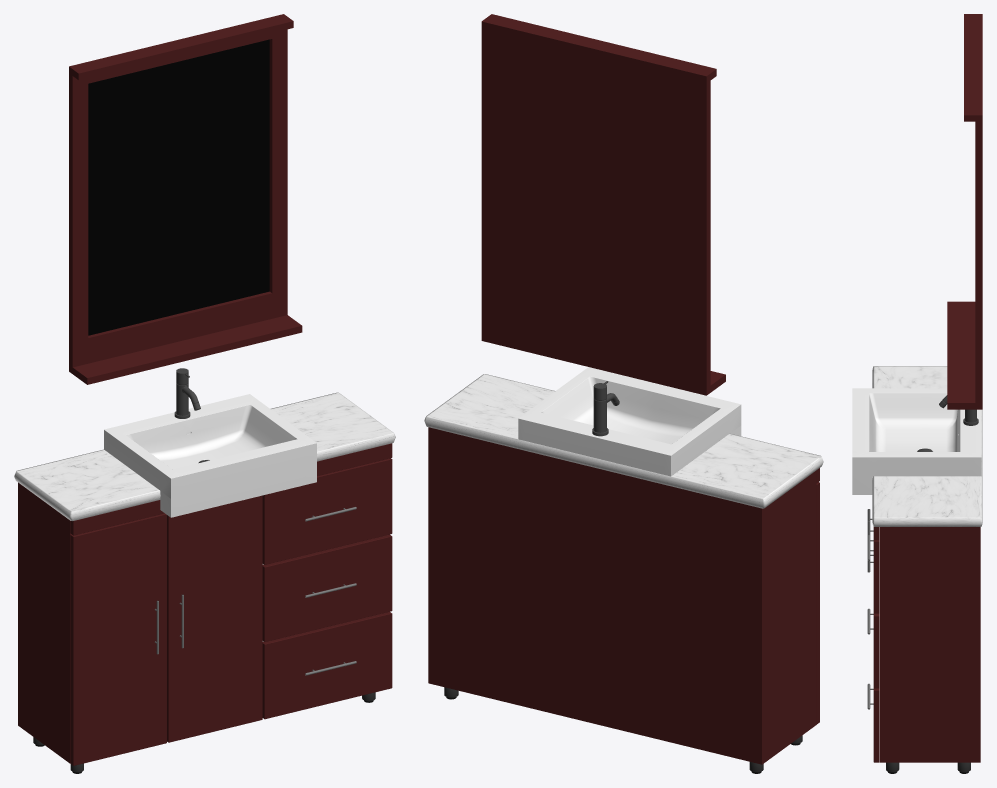
Rendered from bathroom-2.obj.
3 views of the same model, side by side, from view 1: azimuth 30°, elevation 25°; view 2: azimuth 150°, elevation 25°; view 3: azimuth 270°, elevation 25° (orthographic). The views are drawn at different scales.
Visible parts, largest first — view 1: default; view 2: default; view 3: default.
Boxes of the visible parts, left/top/right/bottom form: default: left=14, top=14, right=395, bottom=773; default: left=424, top=14, right=823, bottom=773; default: left=852, top=14, right=982, bottom=773.
Size of the model in its own units: 0.0107 by 0.0208 by 0.00385.
10 materials, 1 textured.
